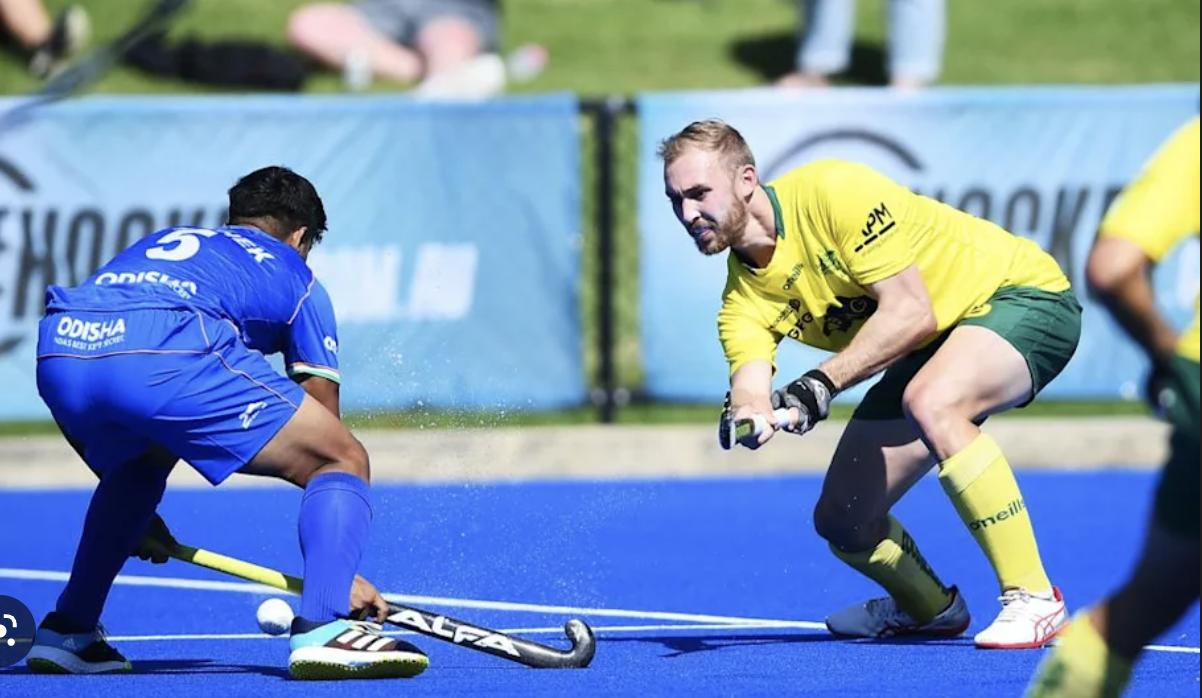ball: (241, 590, 310, 639)
